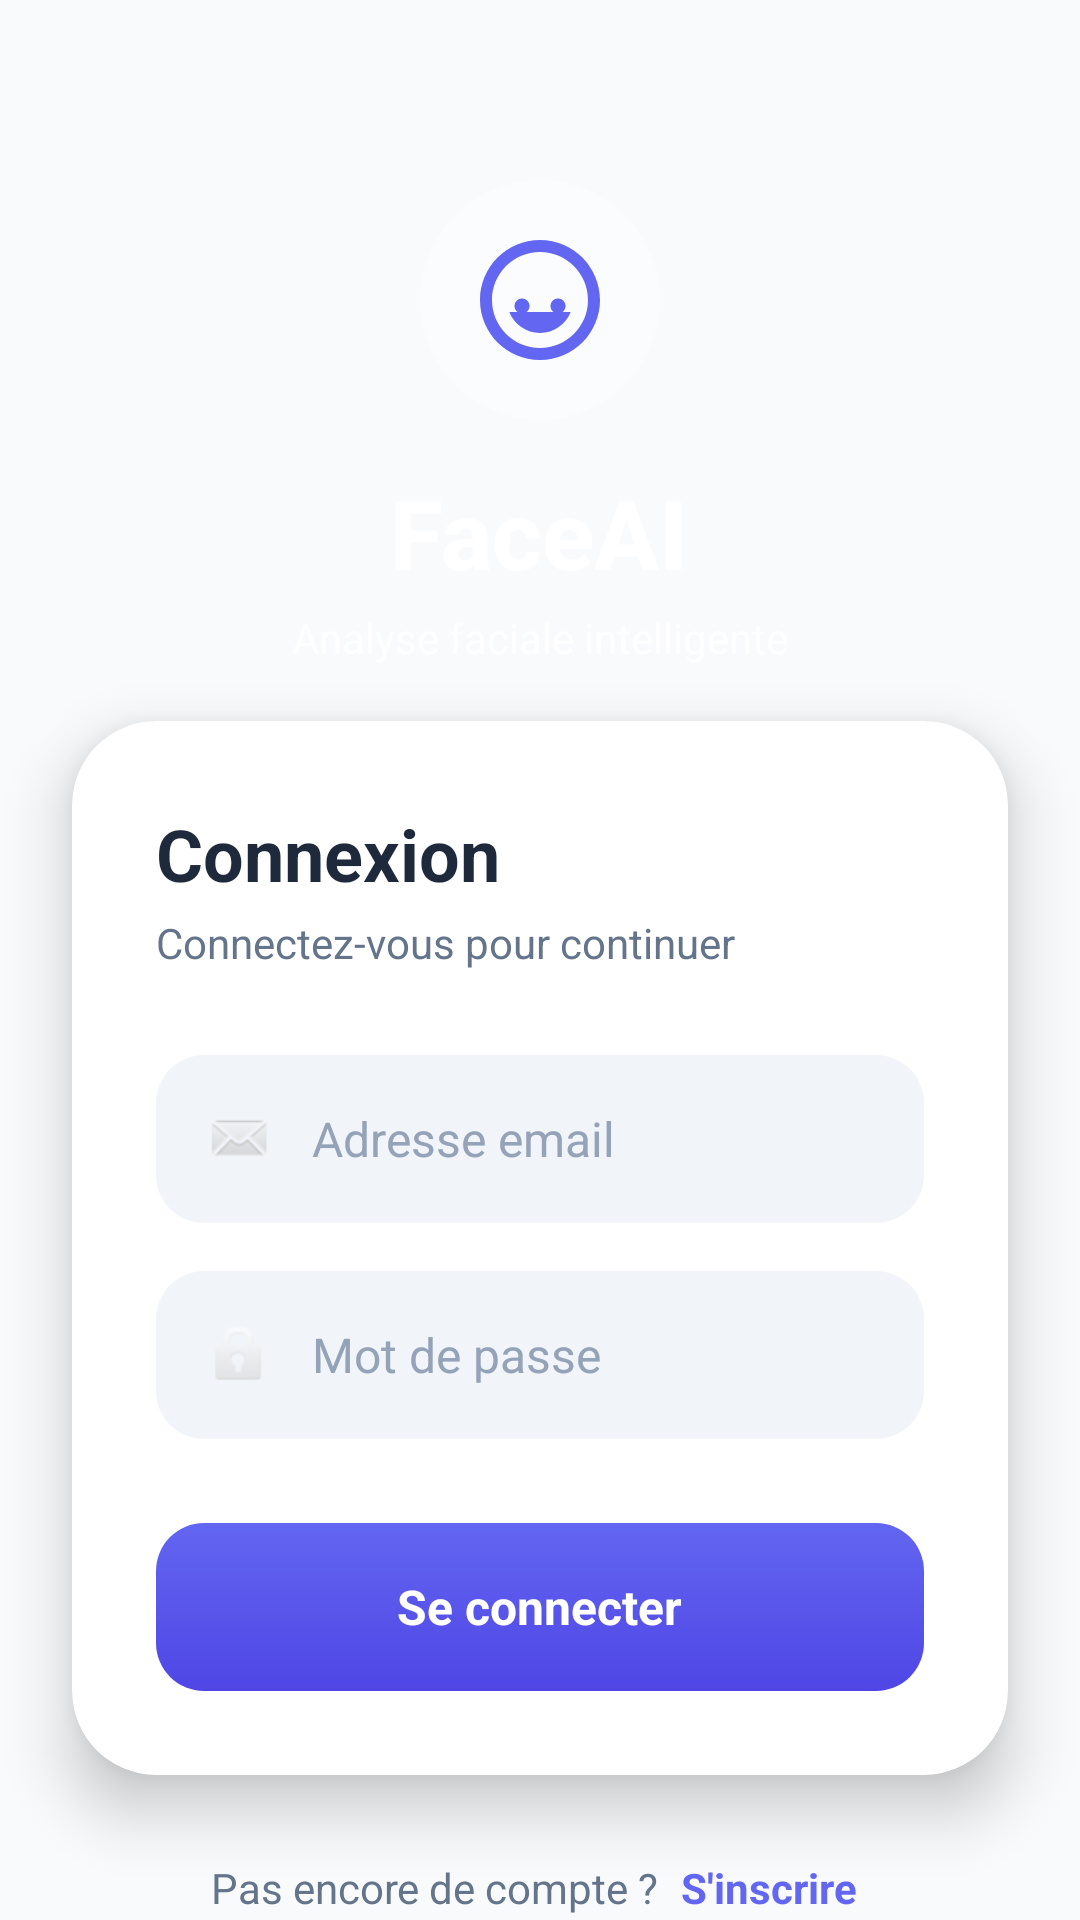

Screen size 1080px x 1920px. Icon name, then its center in pixels as point (x, y):
face scan: point (540, 300)
sym action email: point (239, 1138)
